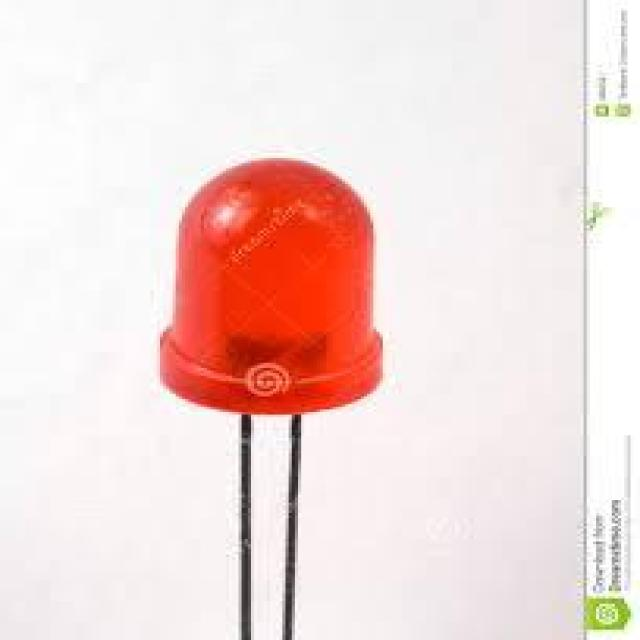Led: (160, 157, 383, 640)
